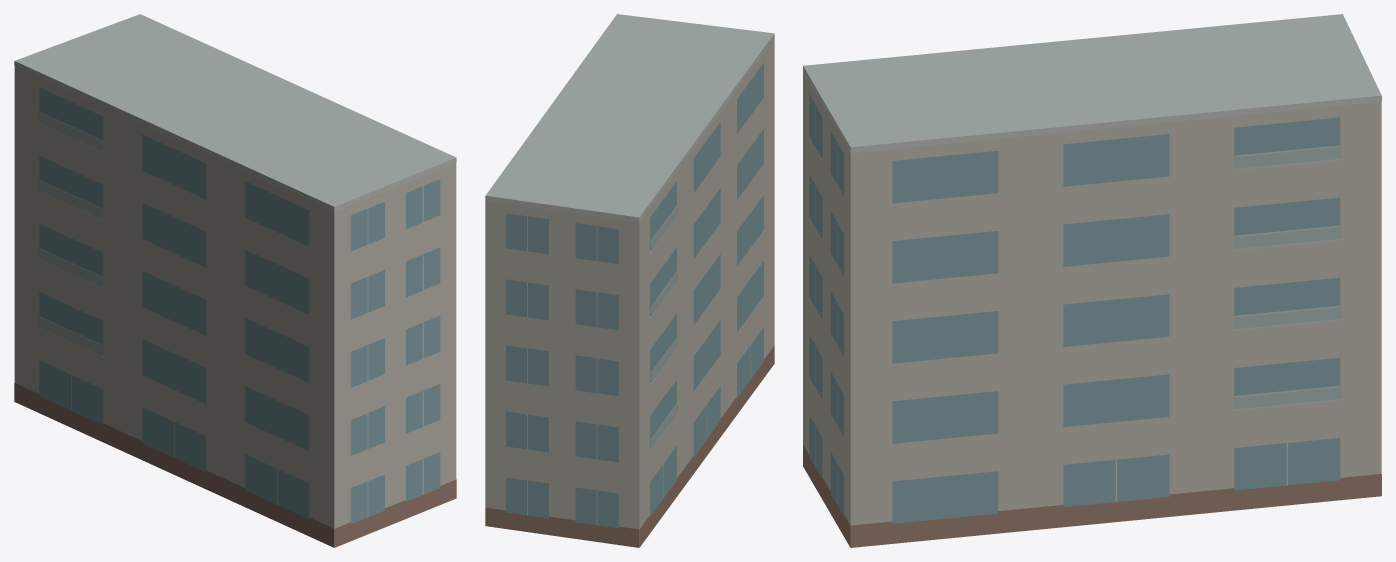
File: survey-upis-32654547.glb
The picture shows the model from 3 angles, left to right: view 1: azimuth 30°, elevation 25°; view 2: azimuth 150°, elevation 25°; view 3: azimuth 270°, elevation 25°; orthographic projection. The views are drawn at different scales.
Parts seen in each view (by area): view 1: survey-upis-32654547.tmp; view 2: survey-upis-32654547.tmp; view 3: survey-upis-32654547.tmp.
Part boxes in pixels (left/top/right/bottom): survey-upis-32654547.tmp: left=14, top=14, right=456, bottom=547; survey-upis-32654547.tmp: left=485, top=14, right=774, bottom=547; survey-upis-32654547.tmp: left=803, top=14, right=1381, bottom=547.
Bounding box in the file's own units: 11.71 × 16.4 × 21.48.
